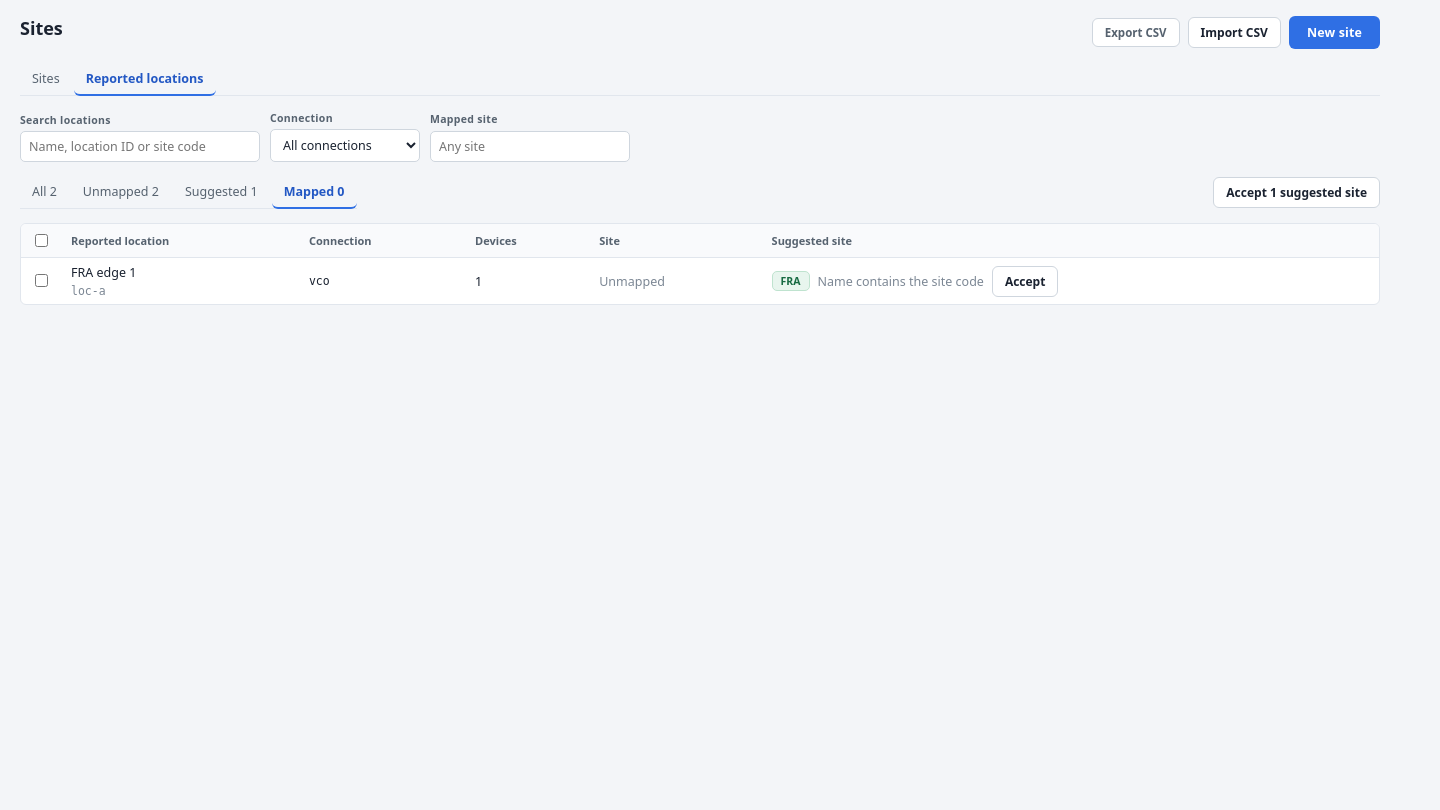
Test case: site bulk work › does not offer Apply when the dry run refuses a row
The image size is (1440, 810).
Click the button "Accept 1 suggested site" at (1297, 192), box [1213,177,1380,208]
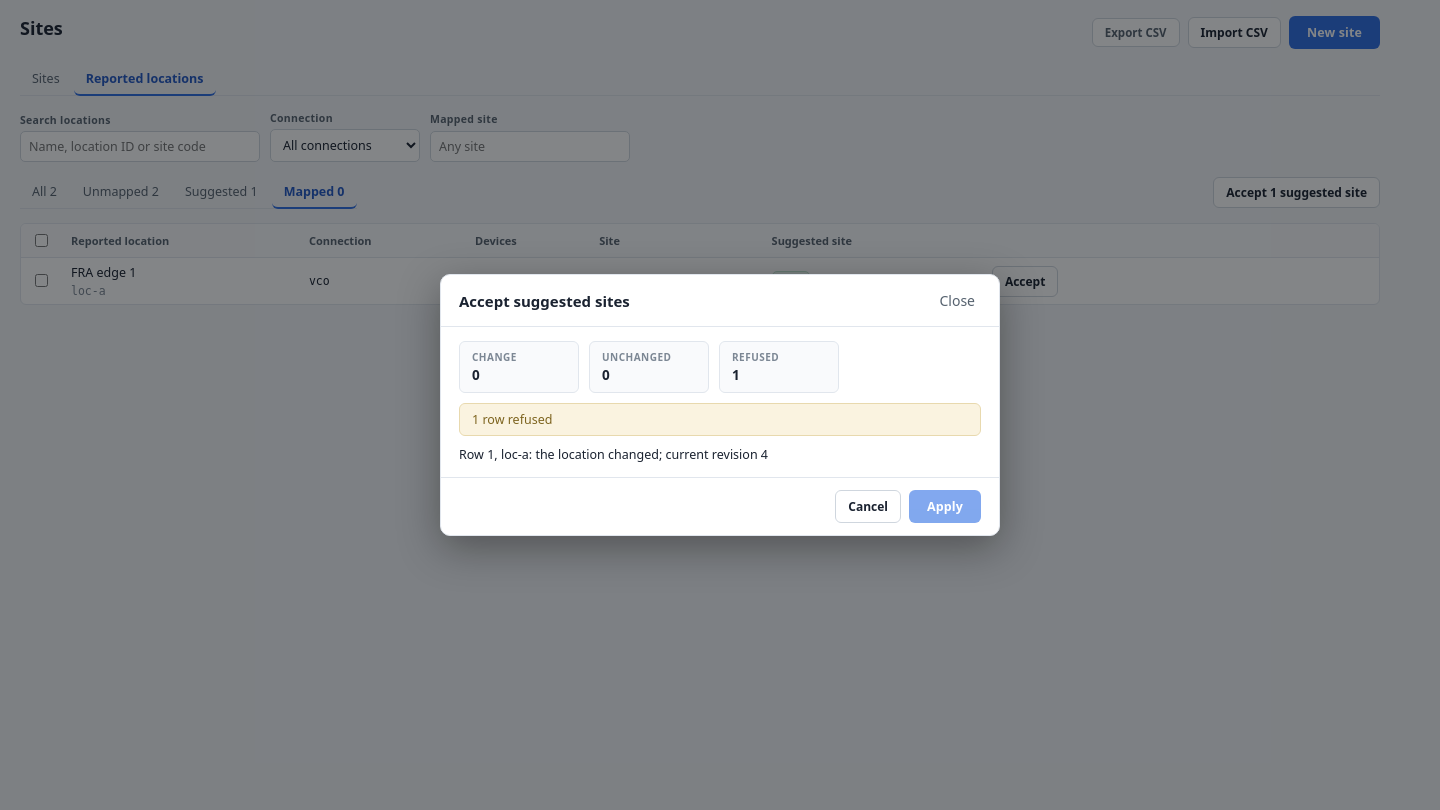
Expected: the list item "Row 1, loc-a: the location changed; current revision 4" is shown, [459,446,768,463]
Expected: the button "Apply" is disabled, [909,490,981,523]
